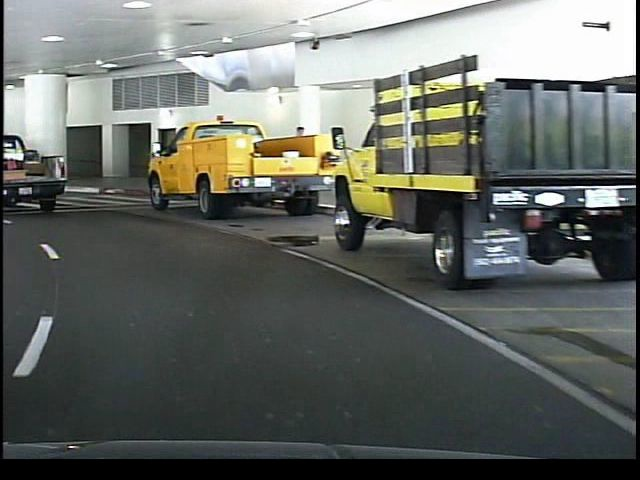person: (286, 120, 311, 199)
